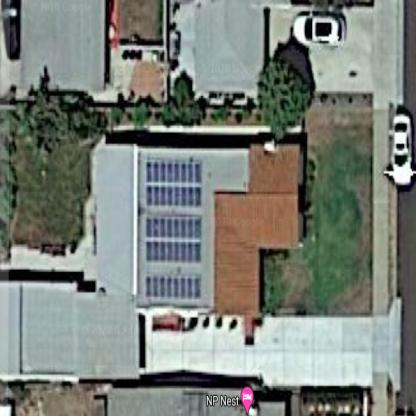car: (287, 6, 351, 57), (383, 103, 414, 192)
solar_panel: (136, 211, 206, 269), (142, 154, 207, 212), (144, 270, 210, 313)
